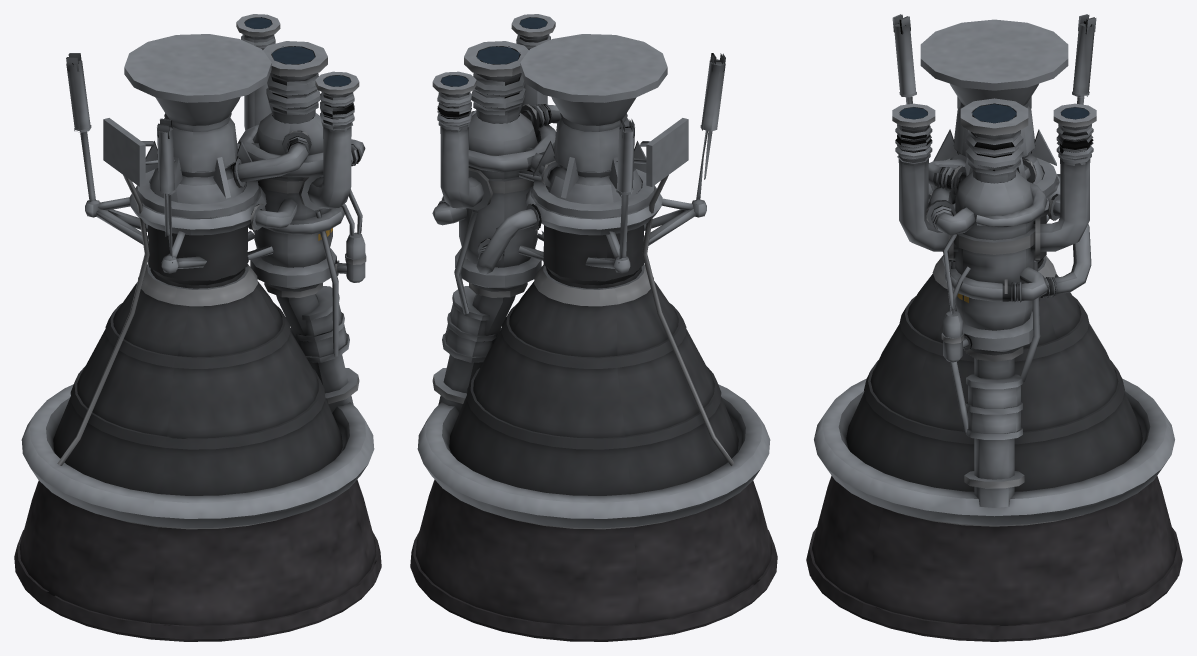
The model's file is eng_kerolox_giant.glb.
3 views of the same model, side by side, from view 1: azimuth 30°, elevation 25°; view 2: azimuth 150°, elevation 25°; view 3: azimuth 270°, elevation 25° (orthographic). The views are drawn at different scales.
Parts seen in each view (by area): view 1: eng_kerolox_giant_mesh; view 2: eng_kerolox_giant_mesh; view 3: eng_kerolox_giant_mesh.
Part boxes in pixels (x1,y1,x2,y2): eng_kerolox_giant_mesh: [14, 14, 381, 641]; eng_kerolox_giant_mesh: [410, 14, 777, 641]; eng_kerolox_giant_mesh: [806, 14, 1182, 641].
Size of the model in its own units: 3.74 by 5.6 by 3.74.
1 material, 1 textured.
